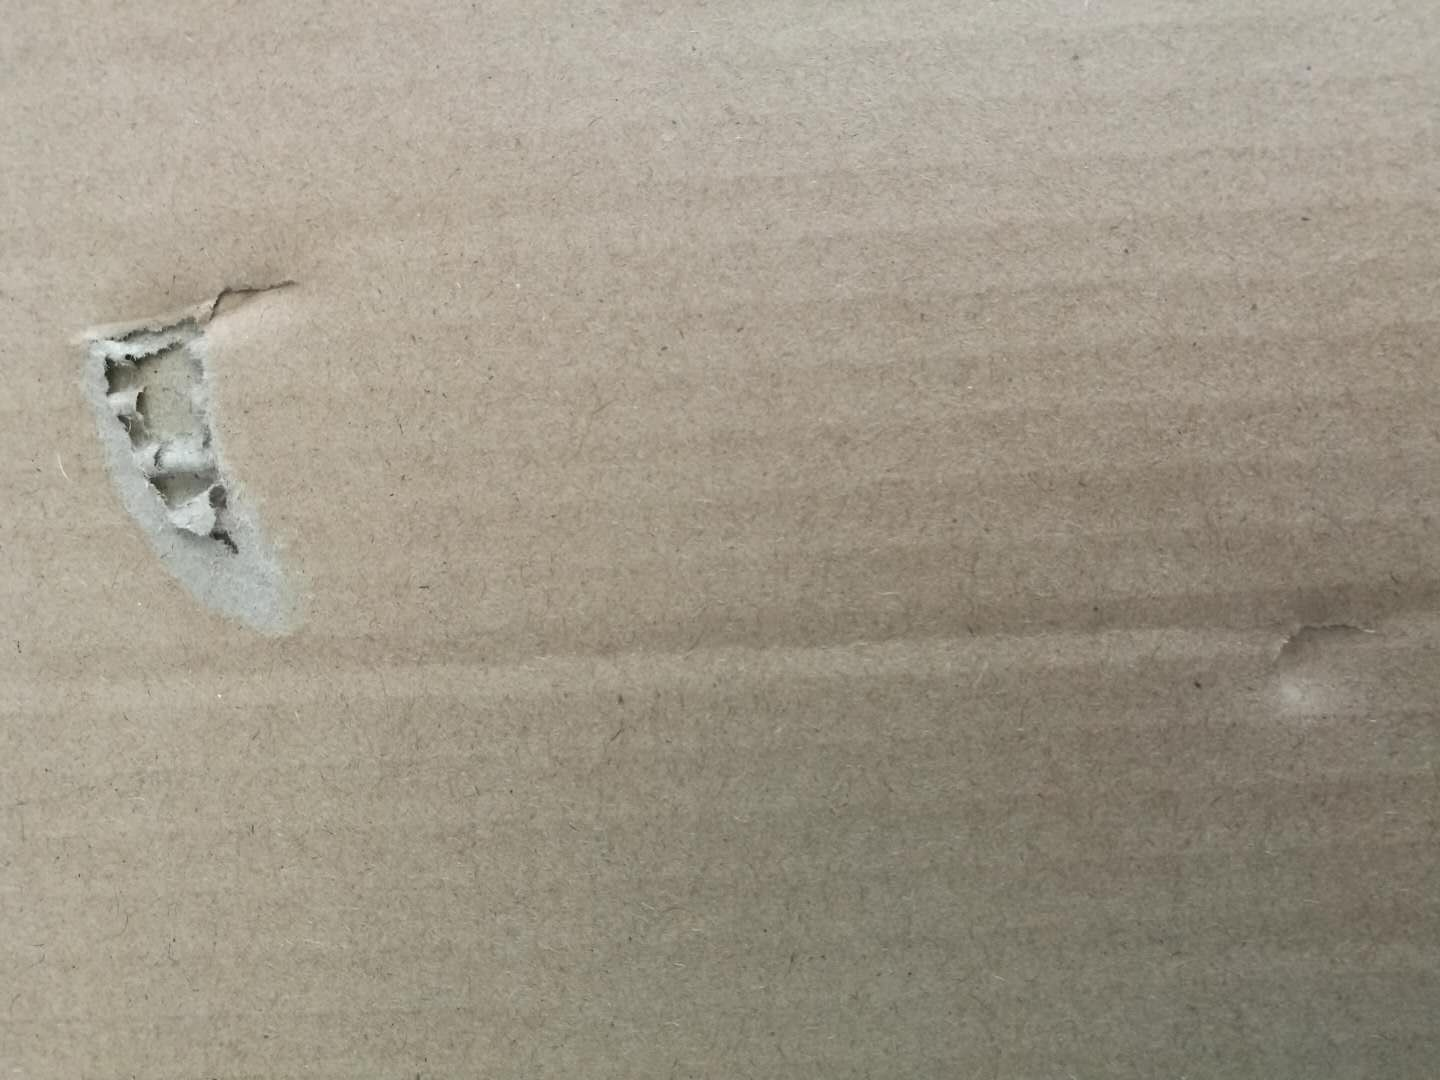defect: (1, 592, 1297, 716), (43, 254, 344, 648), (1234, 580, 1439, 734)
